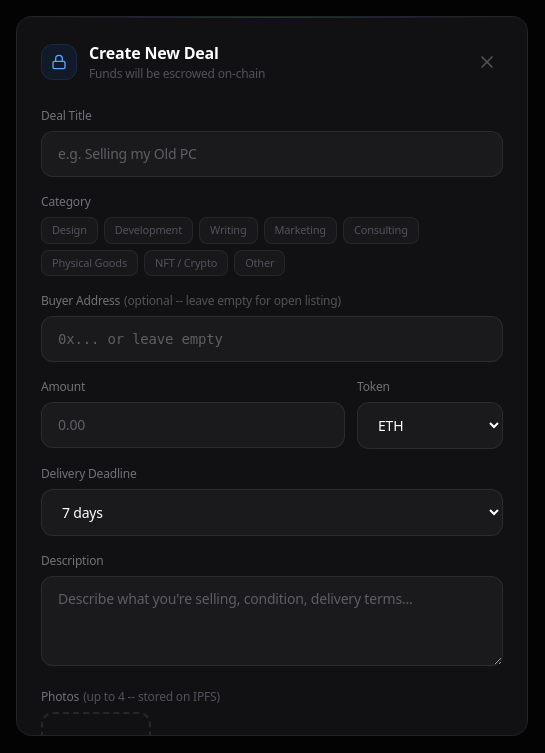
it: CreateDealModal › displays error when transaction fails
In the field with placeholder "e.g. Selling my Old PC": (272, 154) x1=41 y1=131 x2=503 y2=177, type "Fail Deal"
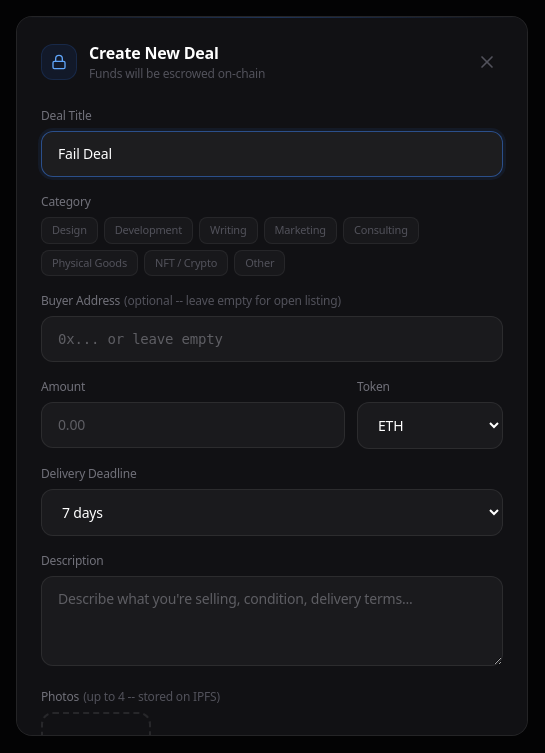
In the number field with placeholder "0.00": (193, 425) x1=41 y1=402 x2=345 y2=448, type "1"
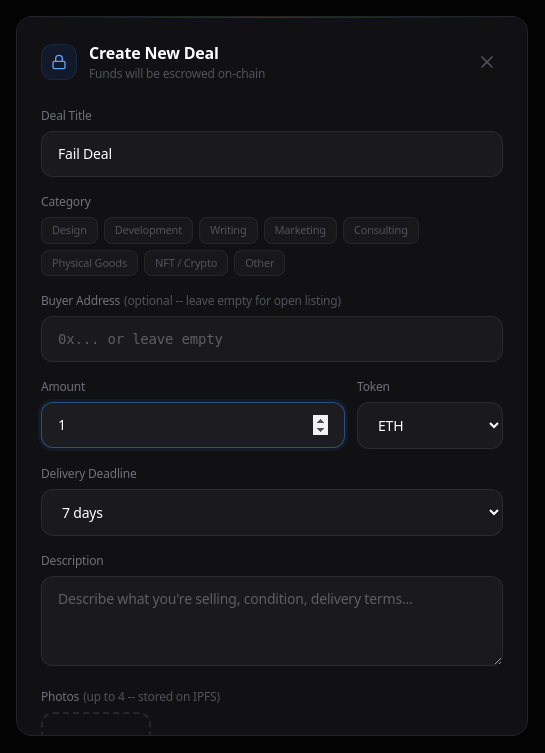
In the text box with placeholder "Describe what you're selling, condition, delivery terms...": (272, 621) x1=41 y1=576 x2=503 y2=666, type "desc"
(page scrolled)
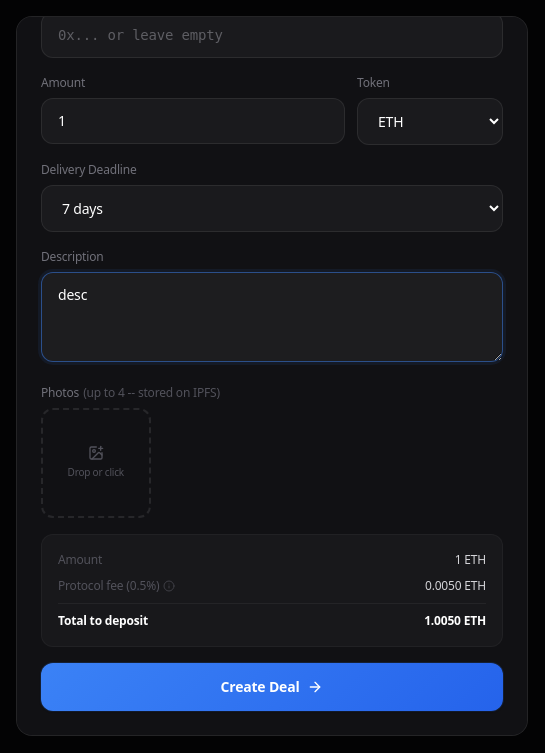
Click the button "Create Deal": (272, 686) x1=41 y1=662 x2=503 y2=710
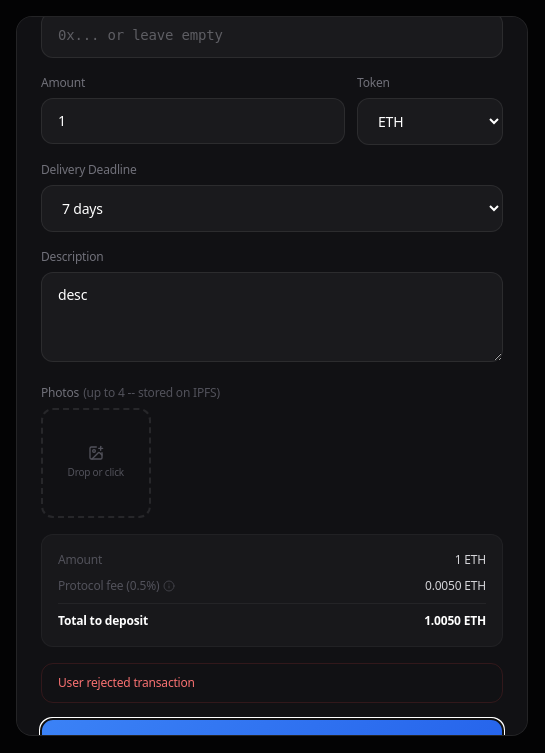
Now the text "User rejected transaction" is shown, box x1=41 y1=662 x2=503 y2=702
